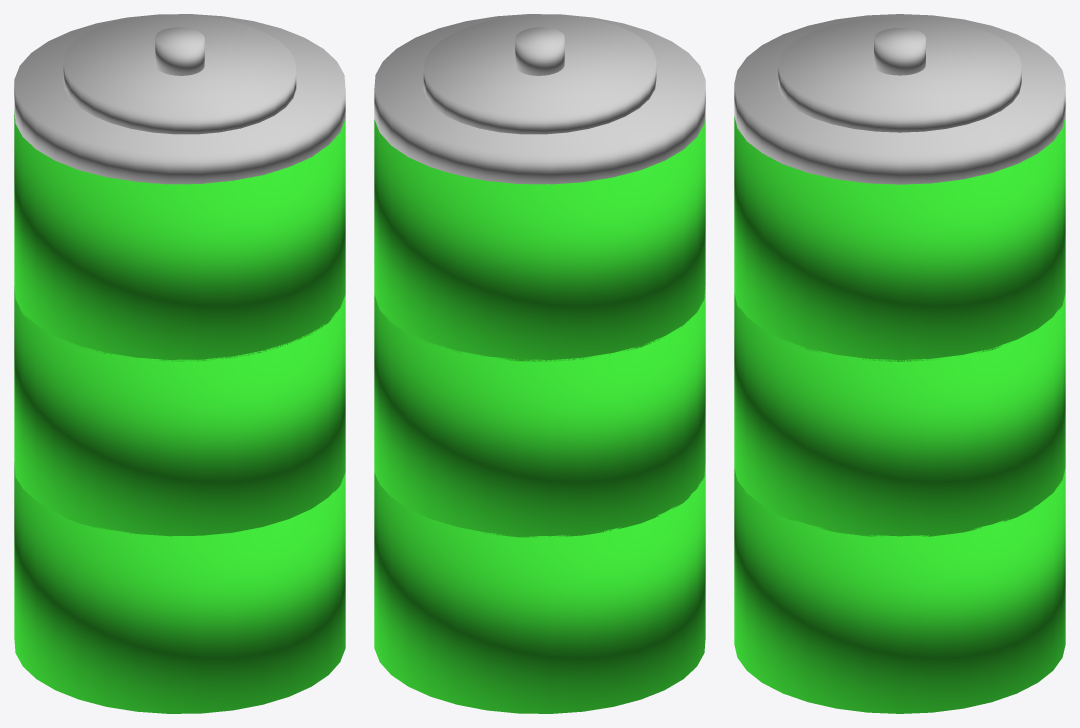
File: batteries.glb
The picture shows the model from 3 angles, left to right: view 1: azimuth 30°, elevation 25°; view 2: azimuth 150°, elevation 25°; view 3: azimuth 270°, elevation 25°; orthographic projection.
Parts seen in each view (by area): view 1: Cylinder.004, Cylinder.002; view 2: Cylinder.004, Cylinder.002; view 3: Cylinder.004, Cylinder.002.
Part boxes in pixels (x1,y1,x2,y2): Cylinder.004: [14, 110, 345, 713]; Cylinder.002: [14, 14, 345, 184]; Cylinder.004: [374, 110, 705, 713]; Cylinder.002: [374, 14, 705, 184]; Cylinder.004: [734, 116, 1065, 713]; Cylinder.002: [734, 14, 1065, 184].
Bounding box in the file's own units: 2 × 4.03 × 2.
